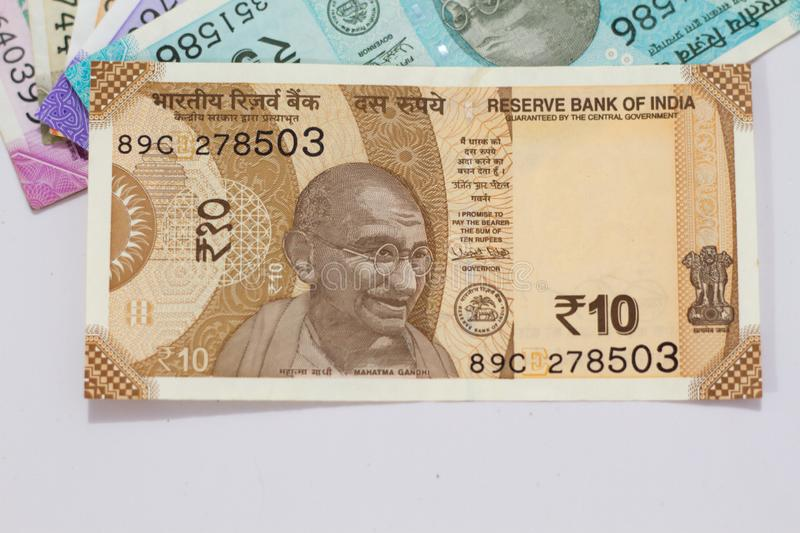ten_rupees_note: (89, 58, 762, 403)
